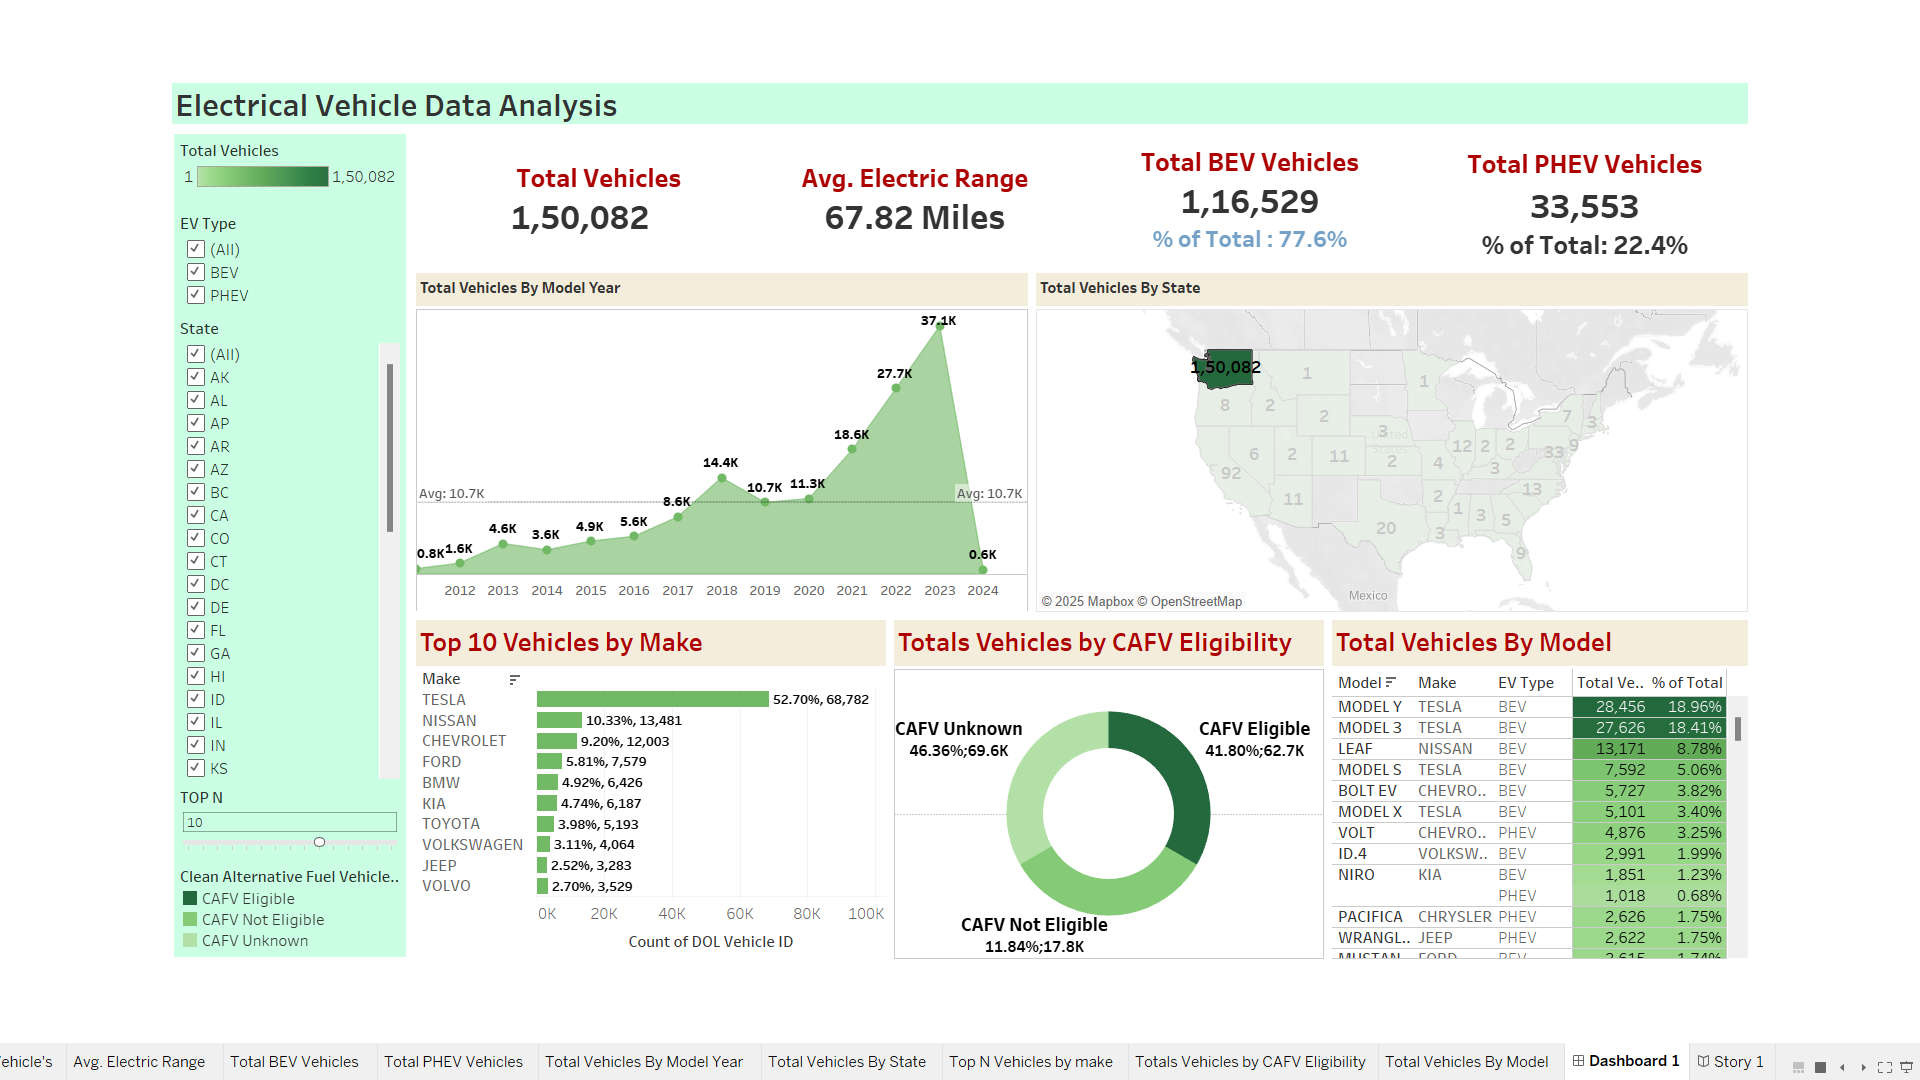

This screenshot's page, from the dashboard's own definition file:
{"tool":"tableau","page":{"name":"Dashboard 1","canvas":[1600,900],"ordinal":0},"visuals":[{"type":"title","box":[8,8,1584,49]},{"type":"worksheet","title":"Total Vehicle's","mark":"Automatic","box":[252,57,335,141]},{"type":"worksheet","title":"Avg. Electric Range ","mark":"Automatic","box":[587,57,335,141]},{"type":"worksheet","title":"Total BEV Vehicles ","mark":"Automatic","box":[922,57,335,141]},{"type":"worksheet","title":"Total PHEV Vehicles","mark":"Automatic","box":[1257,57,335,141]},{"type":"legend","title":"Total Vehicles By State","param":"[federated.0uqdxgc1biuqad1b72jjh0foofz6].[usr:Calculation_358317656552431618:qk]","box":[16,65,228,73]},{"type":"filter","title":"Top N Vehicles by make","param":"[federated.0uqdxgc1biuqad1b72jjh0foofz6].[none:Electric Vehicle Type:nk]","box":[16,138,228,105]},{"type":"worksheet","title":"Total Vehicles By Model Year","mark":"Area","rows":["Calculation_358317656552431618","Calculation_358317656552431618"],"cols":["Model Year"],"box":[252,198.5,620,346.5]},{"type":"worksheet","title":"Total Vehicles By State","mark":"Multipolygon","box":[872,198.5,720,346.5]},{"type":"filter","title":"Top N Vehicles by make","param":"[federated.0uqdxgc1biuqad1b72jjh0foofz6].[none:State:nk]","box":[16,243,228,469]},{"type":"worksheet","title":"Top N Vehicles by make","mark":"Automatic","rows":["Make"],"cols":["DOL Vehicle ID"],"box":[252,545,478,347]},{"type":"worksheet","title":"Totals Vehicles by CAFV Eligibility","mark":"Pie","rows":["Calculation_358317656607076358","Calculation_358317656607076358"],"box":[730,545,438,347]},{"type":"worksheet","title":"Total Vehicles By Model","mark":"Square","rows":["Model","Make","Electric Vehicle Type"],"box":[1168,545,424,347]},{"type":"parameter","param":"[Parameters].[Parameter 1]","box":[16,712,228,79]},{"type":"legend","title":"Totals Vehicles by CAFV Eligibility","param":"[federated.0uqdxgc1biuqad1b72jjh0foofz6].[none:Clean Alternative Fuel Vehicle (C","box":[16,791,228,93]}]}

Visuals, with their boxes on the page's 1600x900 design canvas (x1, y1, x2, y2). These are canvas units, not pixel positions in the 1920x1080 screenshot, which may show the page scaled, cropped or inside an application window:
title: bbox=[8, 8, 1592, 57]
"Total Vehicle's" worksheet: bbox=[252, 57, 587, 198]
"Avg. Electric Range " worksheet: bbox=[587, 57, 922, 198]
"Total BEV Vehicles " worksheet: bbox=[922, 57, 1257, 198]
"Total PHEV Vehicles" worksheet: bbox=[1257, 57, 1592, 198]
"Total Vehicles By State" legend: bbox=[16, 65, 244, 138]
"Top N Vehicles by make" filter: bbox=[16, 138, 244, 243]
"Total Vehicles By Model Year" worksheet (Area marks): bbox=[252, 198, 872, 545]
"Total Vehicles By State" worksheet (Multipolygon marks): bbox=[872, 198, 1592, 545]
"Top N Vehicles by make" filter: bbox=[16, 243, 244, 712]
"Top N Vehicles by make" worksheet: bbox=[252, 545, 730, 892]
"Totals Vehicles by CAFV Eligibility" worksheet (Pie marks): bbox=[730, 545, 1168, 892]
"Total Vehicles By Model" worksheet (Square marks): bbox=[1168, 545, 1592, 892]
parameter: bbox=[16, 712, 244, 791]
"Totals Vehicles by CAFV Eligibility" legend: bbox=[16, 791, 244, 884]
